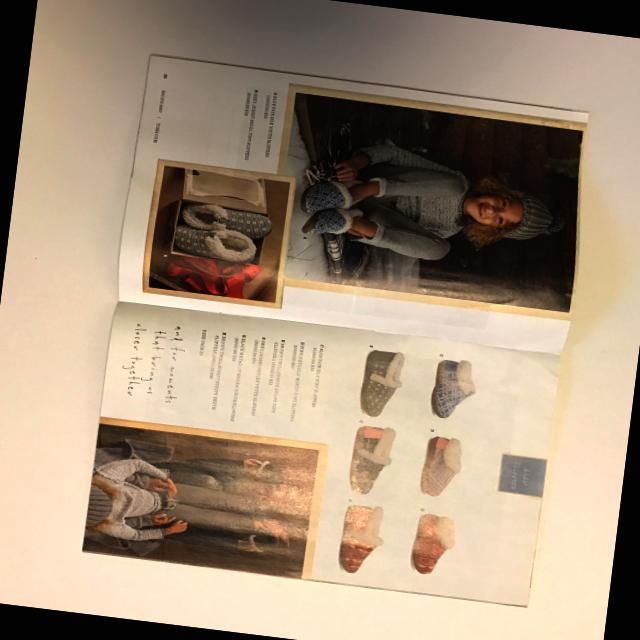Paper: (53, 36, 617, 616)
